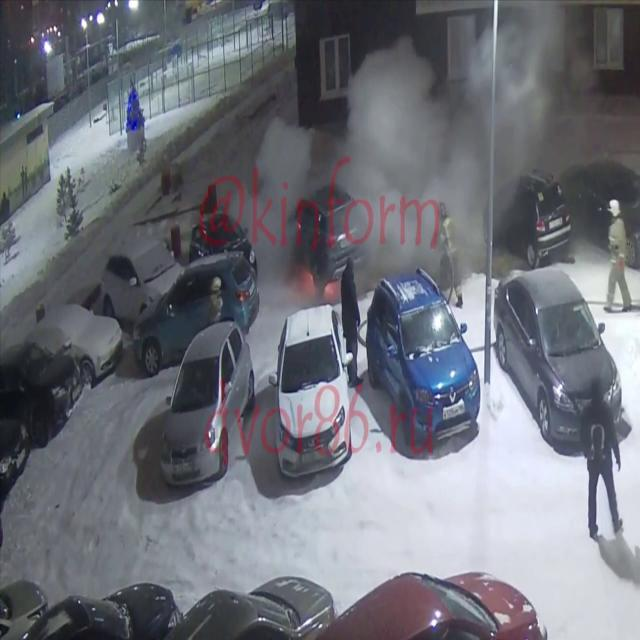Smoke: (316, 2, 600, 256)
